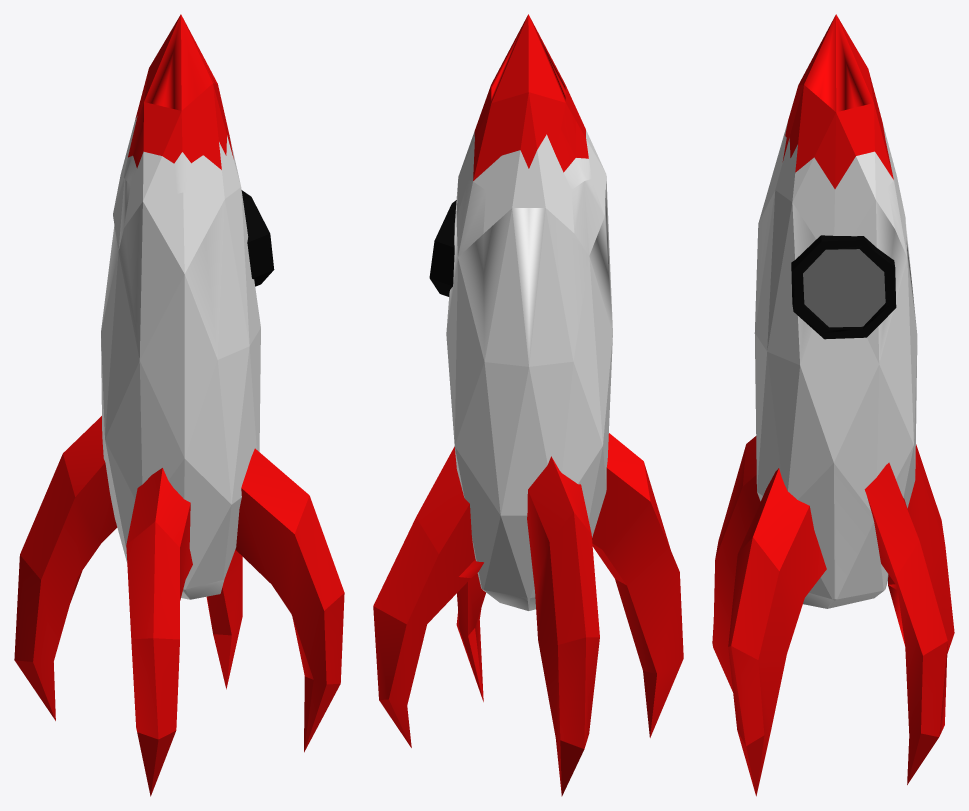
File: LandRocket.obj
The picture shows the model from 3 angles, left to right: view 1: azimuth 30°, elevation 25°; view 2: azimuth 150°, elevation 25°; view 3: azimuth 270°, elevation 25°; orthographic projection.
Parts seen in each view (by area): view 1: pb-MergedObject-47783306_3, pb-MergedObject-47783306_1, pb-MergedObject-47783306_4, pb-MergedObject-47783306_0, pb-MergedObject-47783306_2; view 2: pb-MergedObject-47783306_3, pb-MergedObject-47783306_1, pb-MergedObject-47783306_4, pb-MergedObject-47783306_0, pb-MergedObject-47783306_2; view 3: pb-MergedObject-47783306_3, pb-MergedObject-47783306_1, pb-MergedObject-47783306_4, pb-MergedObject-47783306_0, pb-MergedObject-47783306_6, pb-MergedObject-47783306_2.
Boxes of the visible parts, left/top/right/bottom form: pb-MergedObject-47783306_3: left=101, top=135, right=260, bottom=598; pb-MergedObject-47783306_1: left=14, top=14, right=344, bottom=739; pb-MergedObject-47783306_4: left=14, top=84, right=340, bottom=796; pb-MergedObject-47783306_0: left=101, top=116, right=249, bottom=599; pb-MergedObject-47783306_2: left=241, top=190, right=274, bottom=286; pb-MergedObject-47783306_3: left=446, top=130, right=612, bottom=610; pb-MergedObject-47783306_1: left=373, top=14, right=670, bottom=749; pb-MergedObject-47783306_4: left=379, top=85, right=683, bottom=796; pb-MergedObject-47783306_0: left=446, top=134, right=612, bottom=610; pb-MergedObject-47783306_2: left=429, top=200, right=456, bottom=296; pb-MergedObject-47783306_3: left=754, top=121, right=917, bottom=607; pb-MergedObject-47783306_1: left=712, top=14, right=947, bottom=745; pb-MergedObject-47783306_4: left=713, top=85, right=954, bottom=796; pb-MergedObject-47783306_0: left=755, top=152, right=917, bottom=608; pb-MergedObject-47783306_6: left=803, top=249, right=885, bottom=327; pb-MergedObject-47783306_2: left=791, top=235, right=896, bottom=339.
Bounding box in the file's own units: 2.38 × 7.36 × 2.17.
